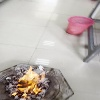fire: (11, 65, 45, 98)
